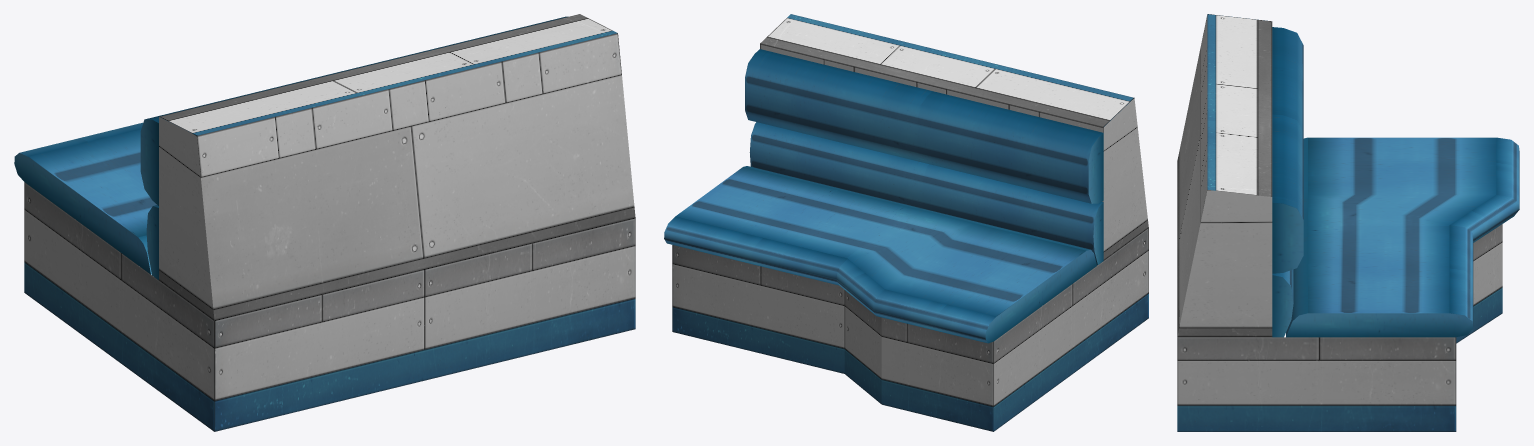
File: Seat_EndRight_01.FBX
3 views of the same model, side by side, from view 1: azimuth 30°, elevation 25°; view 2: azimuth 150°, elevation 25°; view 3: azimuth 270°, elevation 25° (orthographic). The views are drawn at different scales.
Visible parts, largest first — view 1: Seat_EndRight_01; view 2: Seat_EndRight_01; view 3: Seat_EndRight_01.
Part boxes in pixels (x1,y1,x2,y2): Seat_EndRight_01: (14, 14, 635, 431); Seat_EndRight_01: (664, 14, 1148, 431); Seat_EndRight_01: (1177, 14, 1519, 431).
Bounding box in the file's own units: 67.26 × 43.22 × 55.37.
